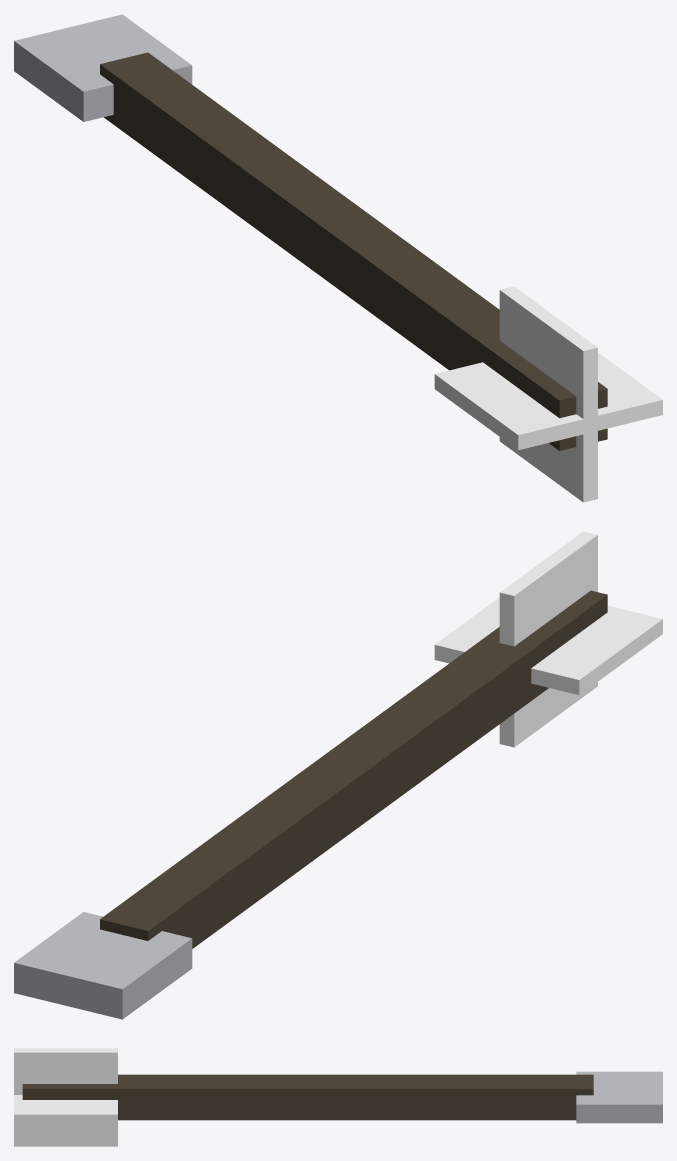
The model's file is CROSSBOW.gltf.
The picture shows the model from 3 angles, top to bottom: view 1: azimuth 30°, elevation 25°; view 2: azimuth 150°, elevation 25°; view 3: azimuth 270°, elevation 25°; orthographic projection. The views are drawn at different scales.
Visible parts, largest first — view 1: CROSSBOW; view 2: CROSSBOW; view 3: CROSSBOW.
Boxes of the visible parts, x1,y1,x2,y2 form: CROSSBOW: [14, 14, 662, 502]; CROSSBOW: [14, 531, 662, 1019]; CROSSBOW: [14, 1048, 662, 1146].
Bounding box in the file's own units: 0.12 × 0.12 × 0.75.
